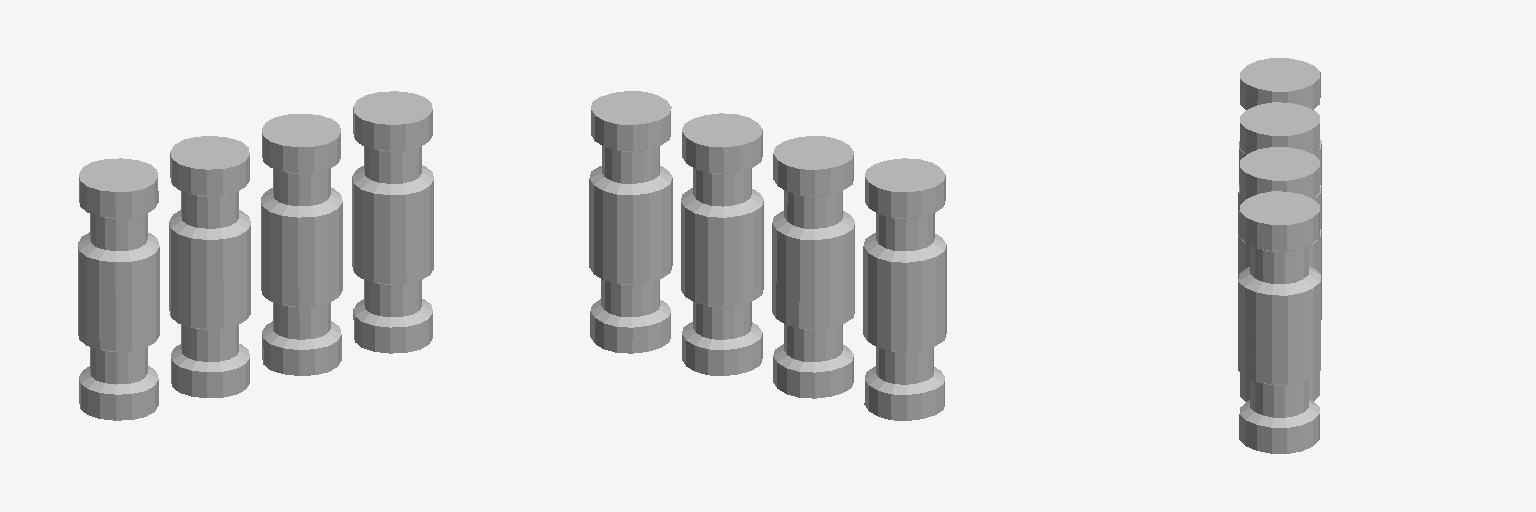
File: decoracion1.OBJ
3 renders of one model, left to right at view 1: azimuth 30°, elevation 25°; view 2: azimuth 150°, elevation 25°; view 3: azimuth 270°, elevation 25°, orthographic.
Parts seen in each view (by area): view 1: Group15826; view 2: Group15826; view 3: Group15826.
Part boxes in pixels (bbox=[...]): Group15826: bbox=[78, 91, 433, 420]; Group15826: bbox=[589, 91, 946, 420]; Group15826: bbox=[1238, 58, 1321, 453].
Size of the model in its own units: 2.78 by 1.76 by 0.5811.